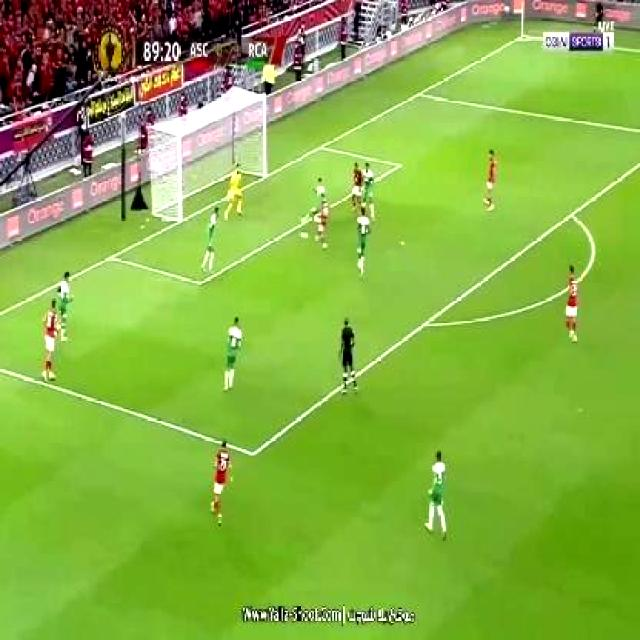bigarea_bottom_inner: (240, 436, 263, 470)
bigarea_top_outter: (409, 83, 426, 103)
bottom_arc_area_intersection: (414, 308, 435, 337)
corner: (512, 26, 534, 43)
smallarea_bottom_inner: (188, 266, 209, 296)
smallarea_bottom_outter: (102, 245, 120, 266)
smallarea_top_inner: (389, 152, 408, 175)
smallarea_top_outter: (311, 135, 329, 157)
top_arc_area_intersection: (562, 203, 578, 223)
